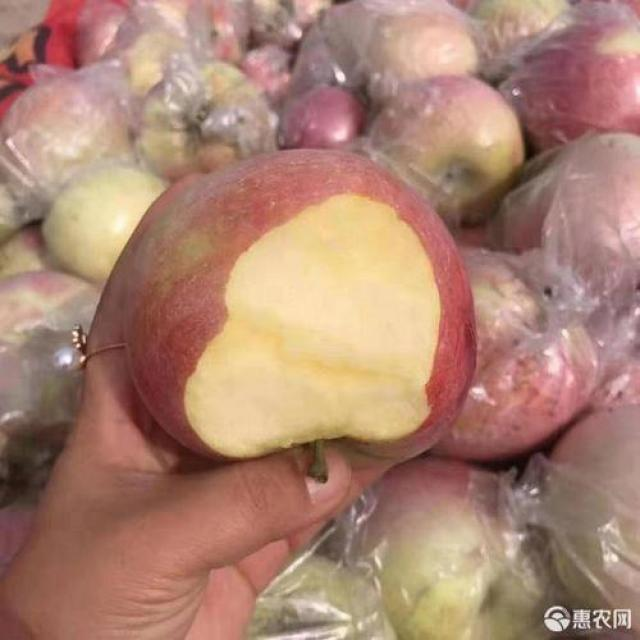Banana: (112, 142, 482, 480)
